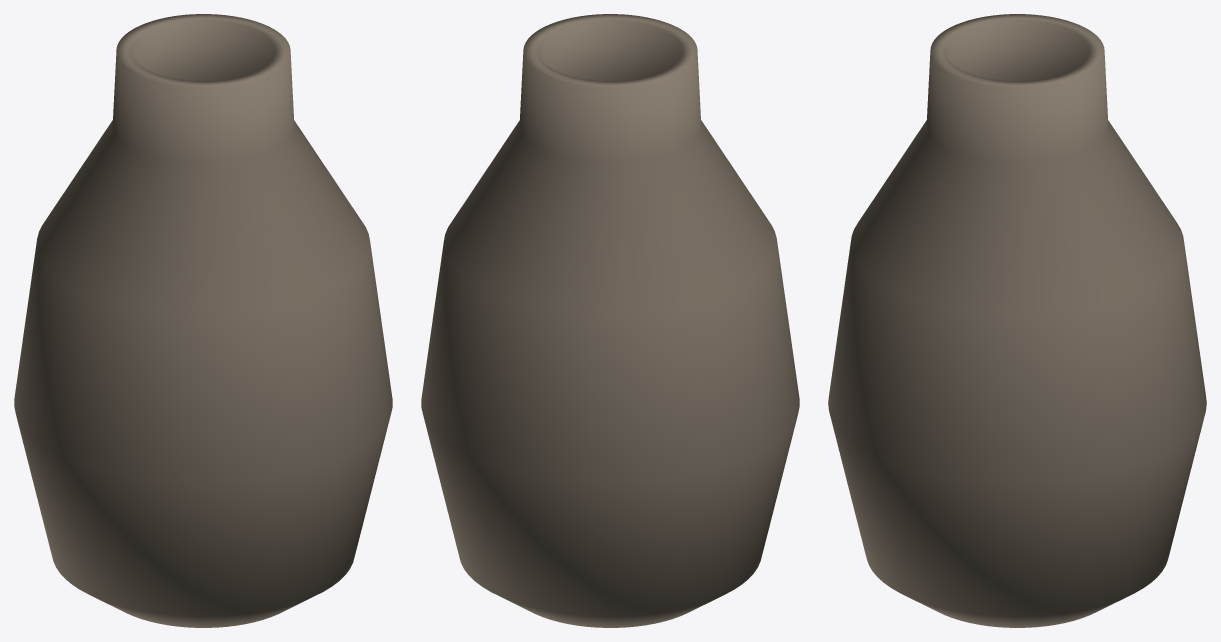
Rendered from contemporary.vase.gltf.
The picture shows the model from 3 angles, left to right: view 1: azimuth 30°, elevation 25°; view 2: azimuth 150°, elevation 25°; view 3: azimuth 270°, elevation 25°; orthographic projection.
Parts seen in each view (by area): view 1: contemporary.vase.stoneware; view 2: contemporary.vase.stoneware; view 3: contemporary.vase.stoneware.
Boxes of the visible parts, <box> form: contemporary.vase.stoneware: <box>14,14,392,627</box>; contemporary.vase.stoneware: <box>421,14,799,627</box>; contemporary.vase.stoneware: <box>828,14,1206,627</box>.
Size of the model in its own units: 0.18 by 0.28 by 0.18.
